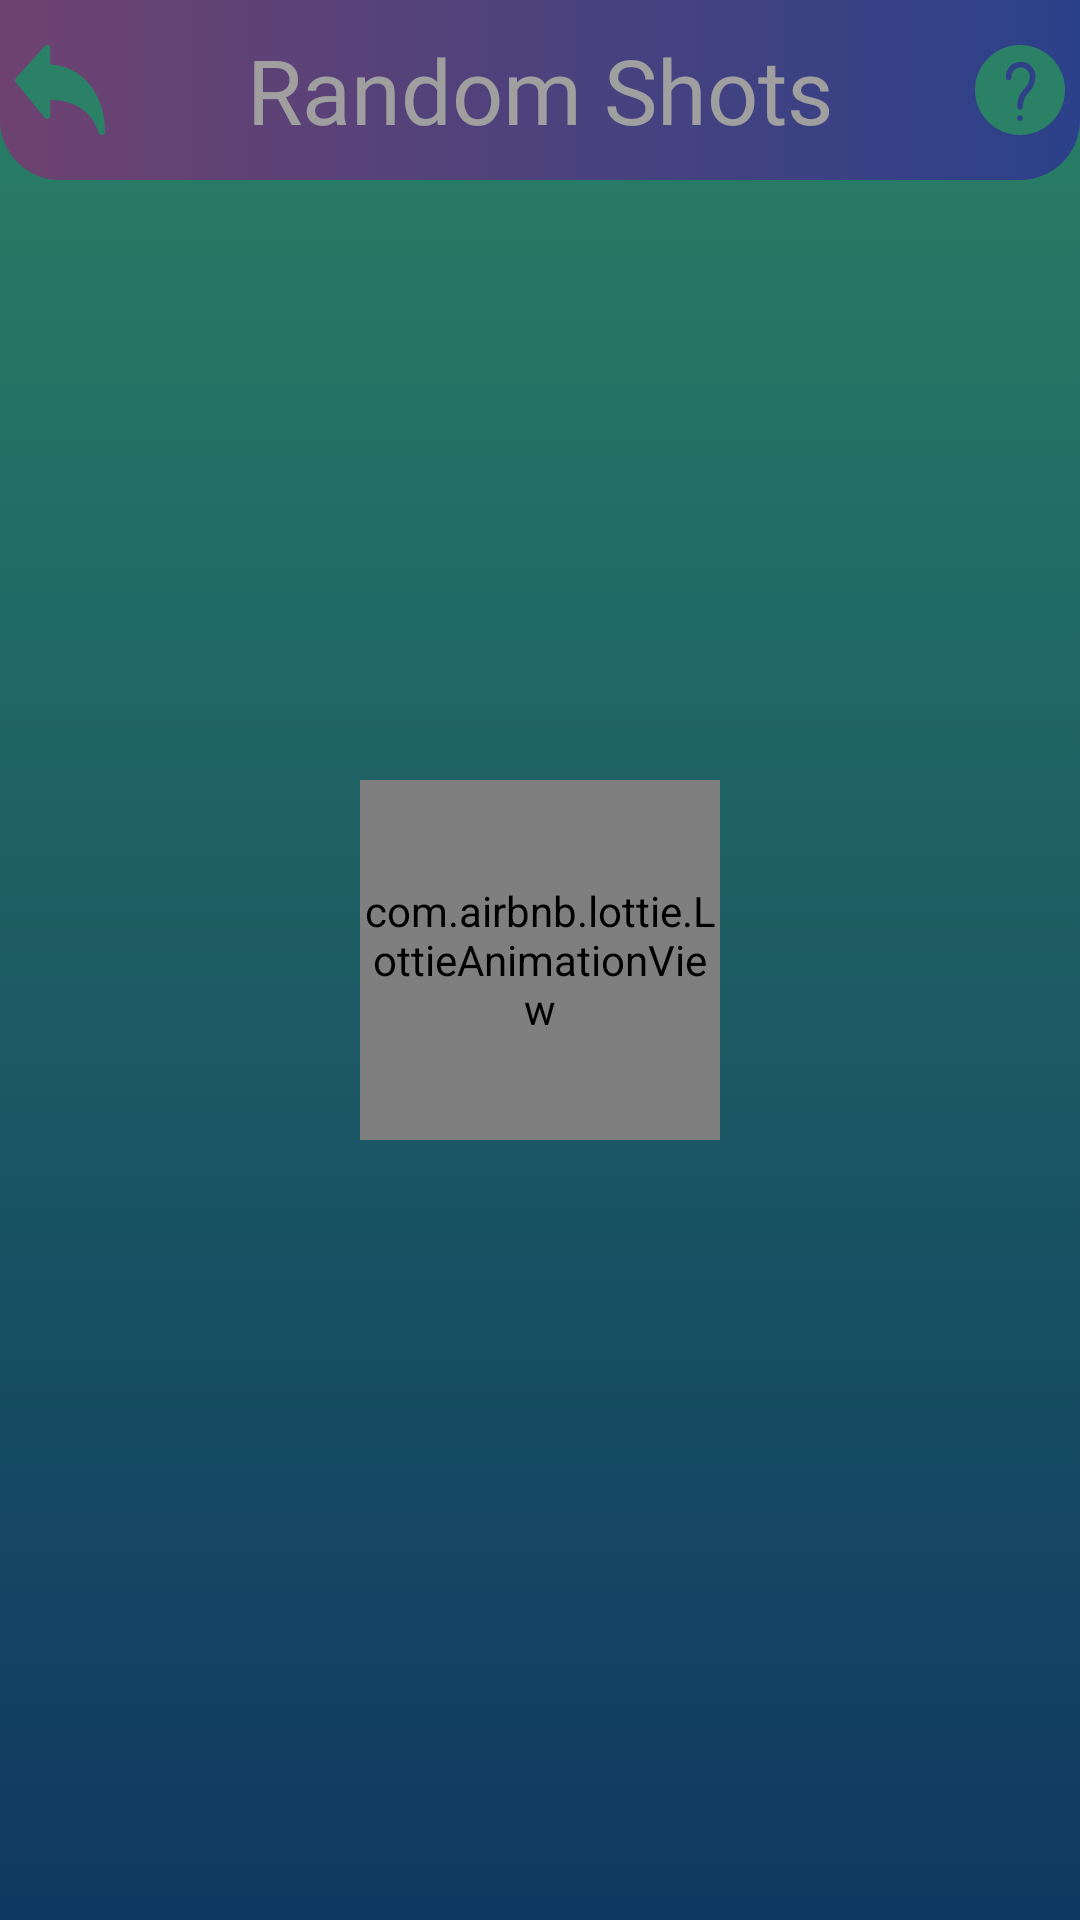

Icons on this 1080px x 1920px Android screen, each with its box as (x1, y1, x2, y2):
back: (15, 45, 105, 135)
help: (975, 45, 1065, 135)
